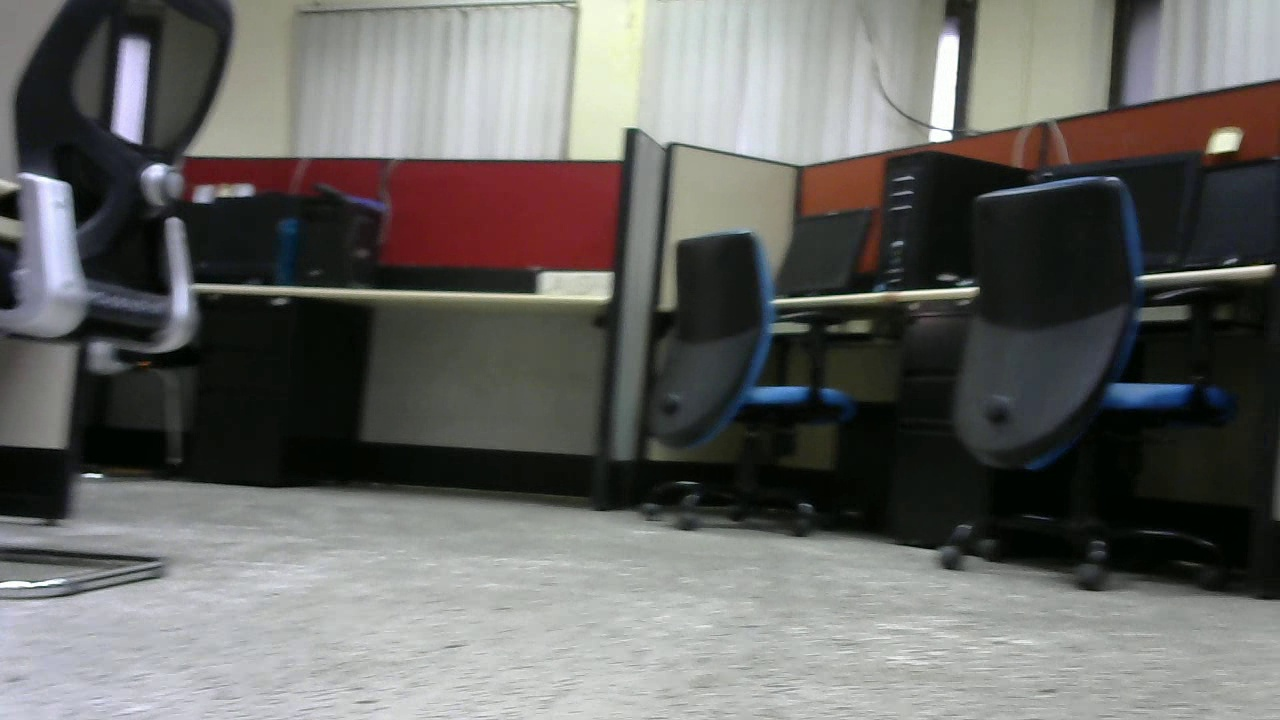chair: (943, 172, 1248, 587), (632, 219, 858, 534)
